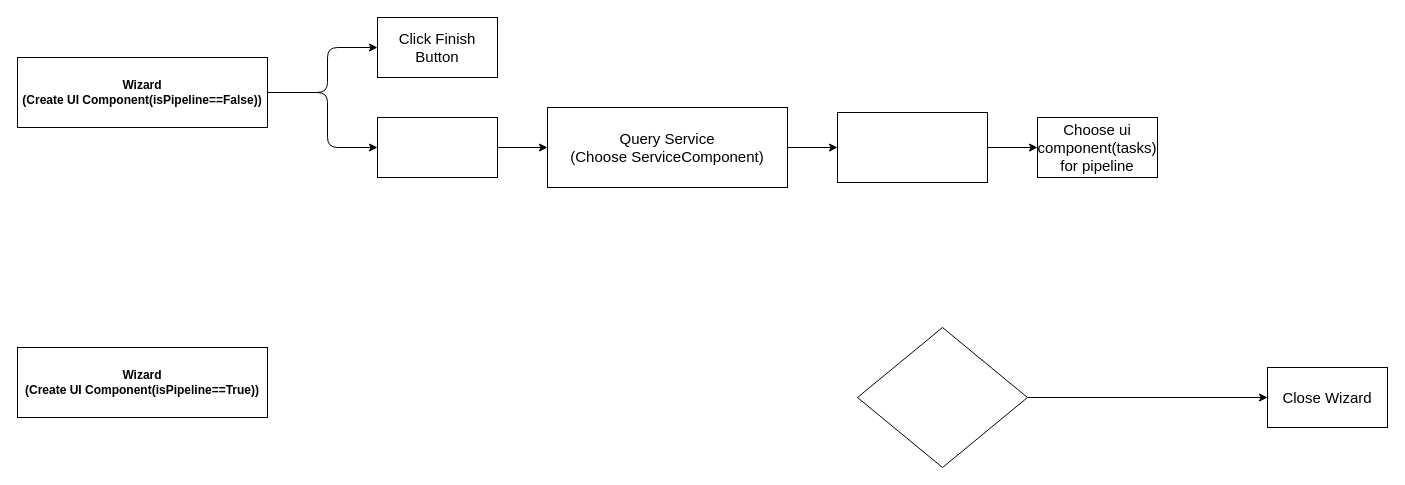
Some shapes in this 1405 by 485 pixel diagram are drawn without their labels. Each missing label, with the centre of its shape:
Click Pipeline Button: the point at 437,147
Create children ui component for arguments: the point at 912,147
Pipeline has other component: the point at 942,397
